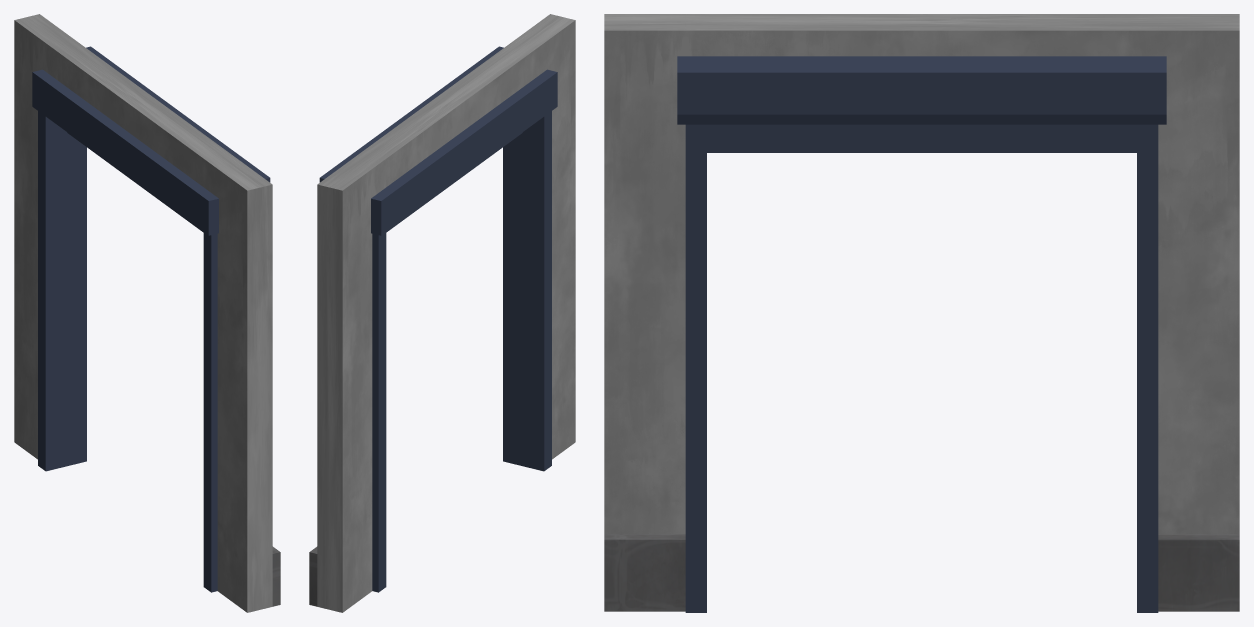
The model's file is Door_Wall_B.fbx.
The picture shows the model from 3 angles, left to right: view 1: azimuth 30°, elevation 25°; view 2: azimuth 150°, elevation 25°; view 3: azimuth 270°, elevation 25°; orthographic projection. The views are drawn at different scales.
Visible parts, largest first — view 1: Cube.096; view 2: Cube.096; view 3: Cube.096.
Boxes of the visible parts, box(x1,y1,x2,y2) form: Cube.096: box(14, 14, 280, 612); Cube.096: box(309, 14, 575, 612); Cube.096: box(604, 14, 1239, 612).
Size of the model in its own units: 59.49 by 400 by 400.
